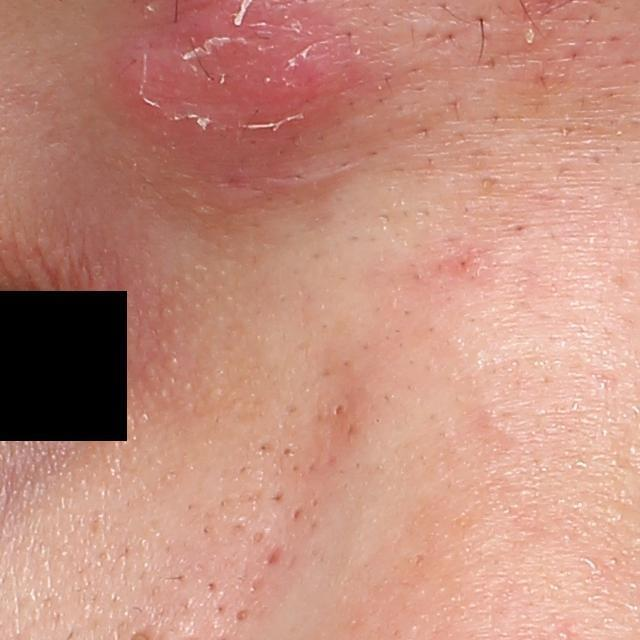comedo: (234, 605, 253, 622), (332, 402, 347, 419)
